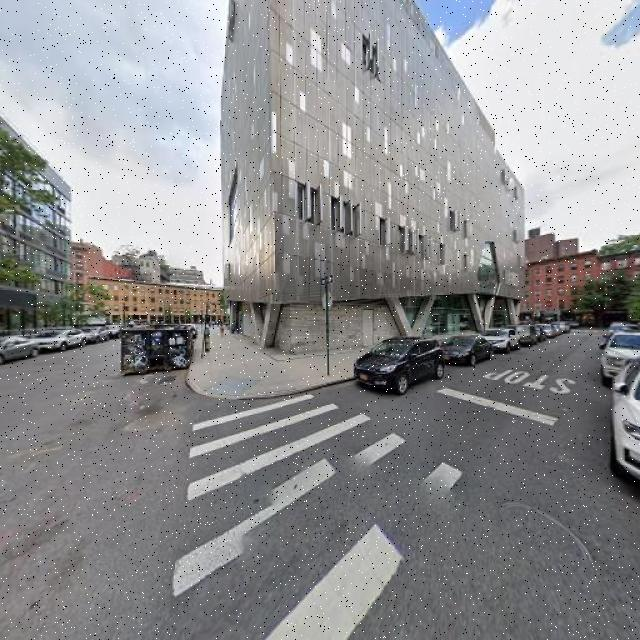Building: (223, 1, 424, 349), (1, 122, 68, 350)
